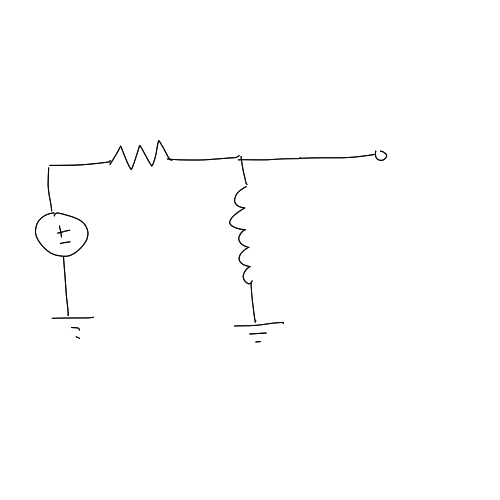dcvs: (32, 209, 94, 260)
gnd: (227, 319, 292, 349), (49, 308, 99, 343)
ind: (227, 178, 262, 288)
probe: (370, 143, 393, 166)
res: (104, 140, 184, 175)
